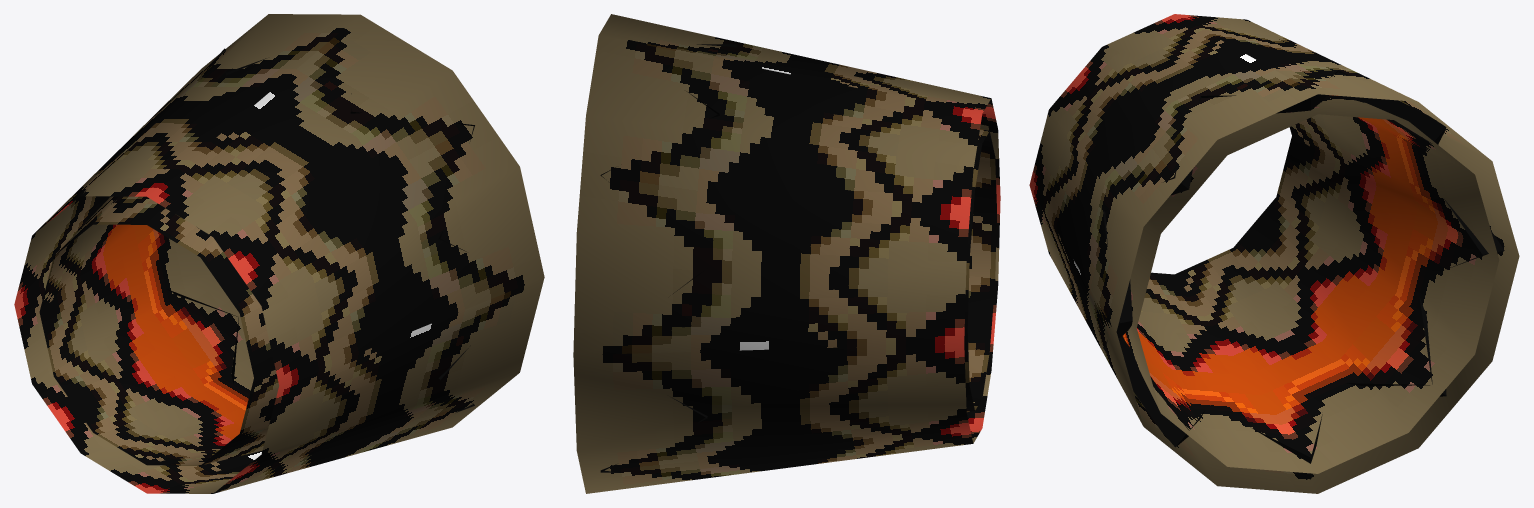
The model's file is cap_crown_queen.dae.
The picture shows the model from 3 angles, left to right: view 1: azimuth 30°, elevation 25°; view 2: azimuth 150°, elevation 25°; view 3: azimuth 270°, elevation 25°; orthographic projection. The views are drawn at different scales.
Parts seen in each view (by area): view 1: cap_crown_queen; view 2: cap_crown_queen; view 3: cap_crown_queen.
Boxes of the visible parts, x1,y1,x2,y2 form: cap_crown_queen: (14,14,544,493); cap_crown_queen: (573,14,1000,493); cap_crown_queen: (1029,14,1519,493).
Bounding box in the file's own units: 10.21 × 9.45 × 10.5.
Materials: 1 (1 with a texture image).
